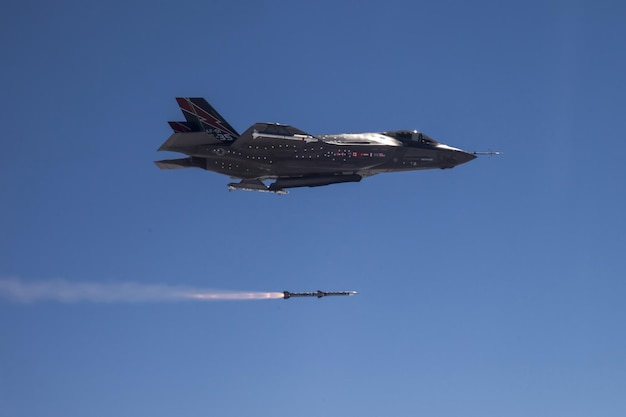F35: (154, 95, 503, 197)
